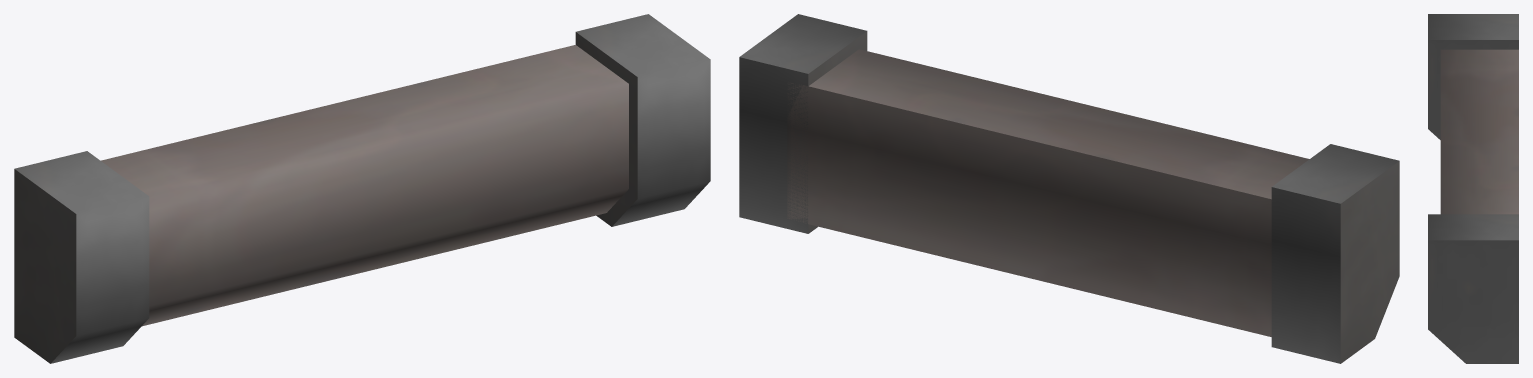
The model's file is Trim_02_a.fbx.
3 views of the same model, side by side, from view 1: azimuth 30°, elevation 25°; view 2: azimuth 150°, elevation 25°; view 3: azimuth 270°, elevation 25° (orthographic). The views are drawn at different scales.
Visible parts, largest first — view 1: Trim_02_a; view 2: Trim_02_a; view 3: Trim_02_a.
Part boxes in pixels (bbox=[...]): Trim_02_a: bbox=[14, 14, 710, 363]; Trim_02_a: bbox=[739, 14, 1399, 363]; Trim_02_a: bbox=[1428, 14, 1518, 363].
Size of the model in its own units: 1.14 by 0.2902 by 0.1936.
